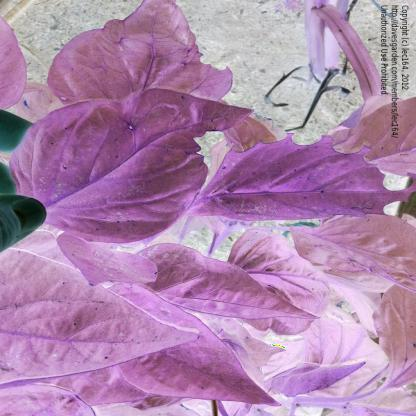Bell_pepper leaf spot: (113, 122, 318, 306), (183, 2, 301, 171), (327, 75, 415, 223), (338, 164, 415, 312), (305, 189, 394, 275)
